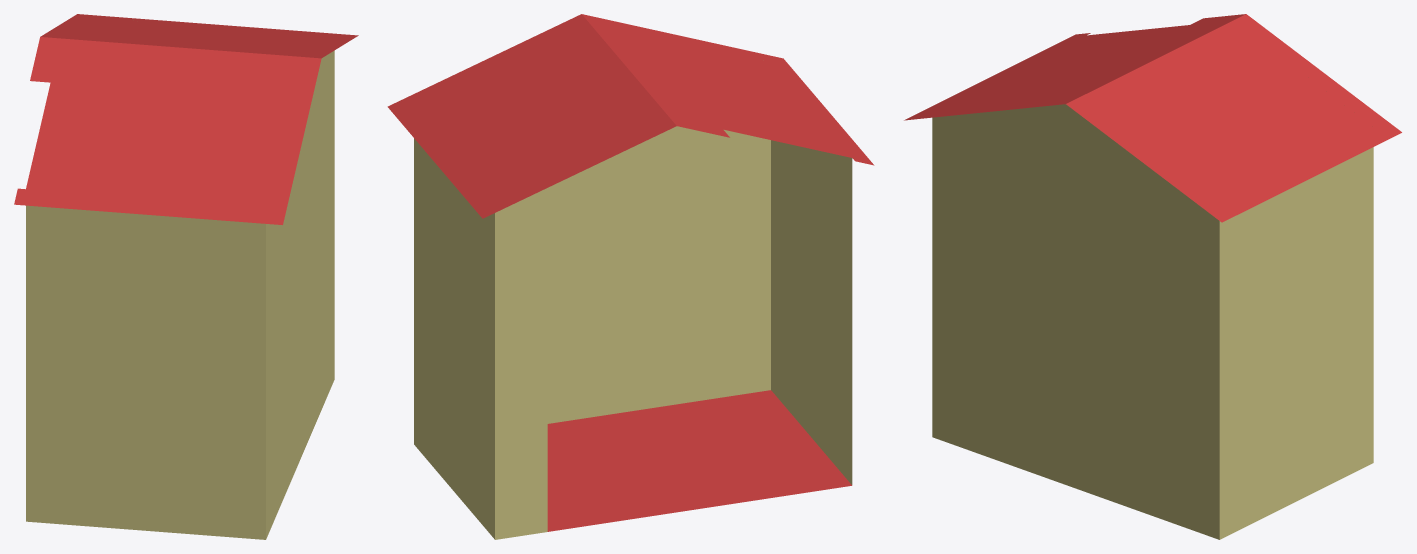
3 renders of one model, left to right at view 1: azimuth 30°, elevation 25°; view 2: azimuth 150°, elevation 25°; view 3: azimuth 270°, elevation 25°, orthographic. The views are drawn at different scales.
Size of the model in its own units: 11.54 by 12.16 by 10.54.
